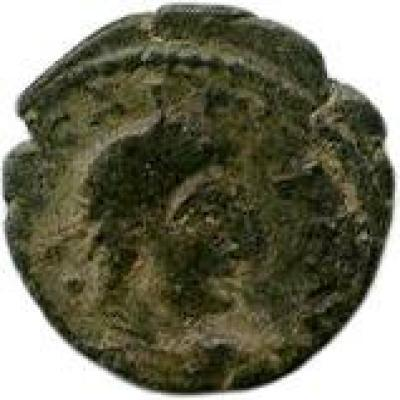numismatics: (4, 5, 392, 391)
